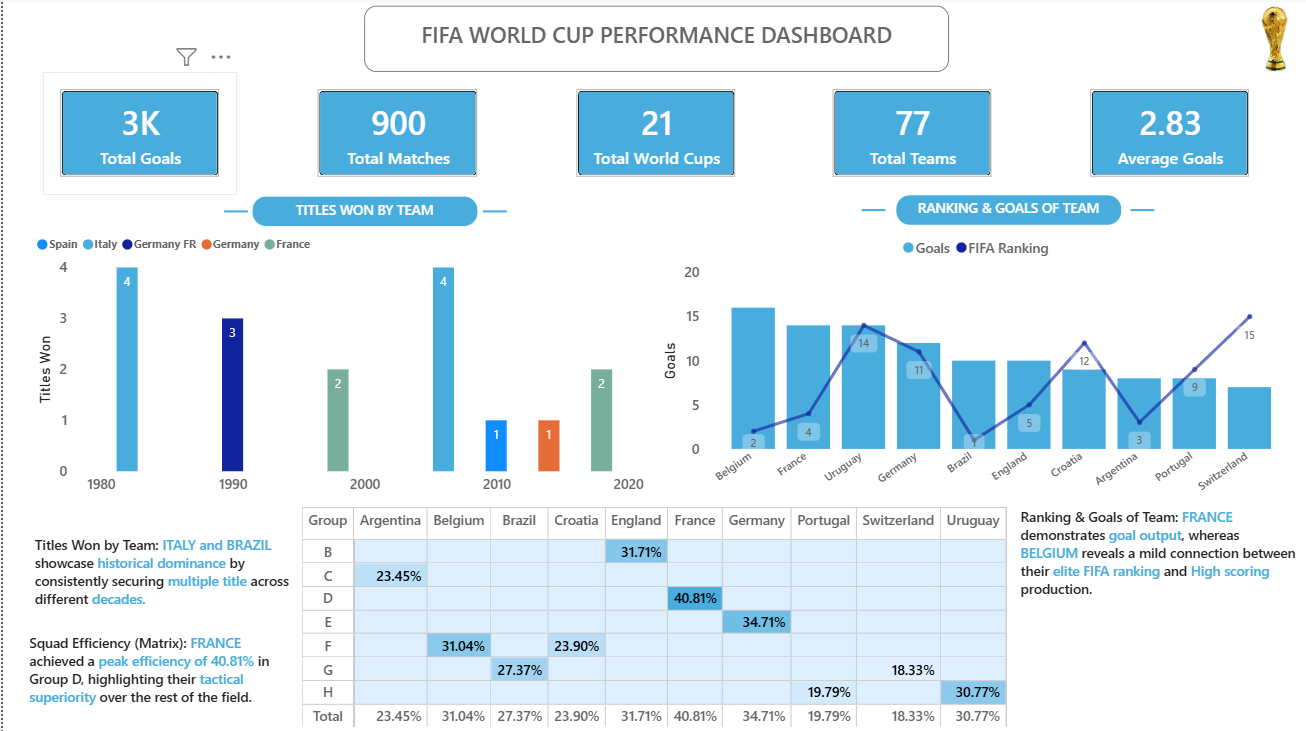

This screenshot's page, from the dashboard's own definition file:
{"tool":"powerbi","page":{"name":"OVERVIEW","canvas":[1280,720],"ordinal":0},"visuals":[{"type":"textbox","box":[353.9,8.6,572.3,64.8],"z":0},{"type":"cardVisual","fields":{"Data":["2022_world_cup_groups.tOTAL WORLD CUPS"]},"box":[543.5,73.4,189.5,119.8],"z":1000},{"type":"cardVisual","fields":{"Data":["2022_world_cup_groups.total matches"]},"box":[290.7,73.4,190.8,119.8],"z":2000},{"type":"cardVisual","fields":{"Data":["2022_world_cup_groups.total goals"]},"box":[39.1,73.4,189.5,119.8],"z":3000},{"type":"cardVisual","fields":{"Data":["2022_world_cup_groups.average goals"]},"box":[1046.7,73.4,189.5,119.8],"z":4000},{"type":"cardVisual","fields":{"Data":["2022_world_cup_groups.total teams"]},"box":[795.1,73.4,189.5,119.8],"z":5000},{"type":"image","box":[1220.4,8.6,47.7,64.8],"z":6000},{"type":"ribbonChart","fields":{"Y":["2022_world_cup_groups.titles won"],"Series":["world_cups.Winner"],"Category":["world_cups.Year"]},"box":[28.1,225,611.4,269],"z":7000},{"type":"lineClusteredColumnComboChart","fields":{"Category":["2022_world_cup_groups.Team"],"Y2":["2022_world_cup_groups.h fifa ranking"],"Y":["2022_world_cup_groups.h goals"]},"box":[639.5,225,628.5,269],"z":8000},{"type":"pivotTable","fields":{"Rows":["2022_world_cup_groups.Group"],"Columns":["2022_world_cup_groups.Team"],"Values":["2022_world_cup_groups.squad experince"]},"box":[287.4,494,703.1,226.2],"z":9000},{"type":"textbox","box":[243.3,194.4,221.3,30.6],"z":10000},{"type":"shape","box":[216.4,188.3,23.2,42.8],"z":11000},{"type":"shape","box":[469.6,188.3,23.2,42.8],"z":12000},{"type":"textbox","box":[873.1,193.2,221.3,30.6],"z":13000},{"type":"shape","box":[1103,187.1,23.2,42.8],"z":14000},{"type":"shape","box":[840.1,187.1,23.2,42.8],"z":15000},{"type":"textbox","box":[28.1,523.4,259.2,94.2],"z":16000},{"type":"textbox","box":[20.8,617.5,266.6,86.8],"z":17000},{"type":"textbox","box":[990,494,279,226],"z":18000}]}

Visuals, with their boxes in screenshot pixels (x1, y1, x2, y2), scaled from the page's 1280x720 canvas onto the 1306x731 screenshot:
textbox: [361,9,945,75]
cardVisual - 2022_world_cup_groups.tOTAL WORLD CUPS: [555,75,748,196]
cardVisual - 2022_world_cup_groups.total matches: [297,75,491,196]
cardVisual - 2022_world_cup_groups.total goals: [40,75,233,196]
cardVisual - 2022_world_cup_groups.average goals: [1068,75,1261,196]
cardVisual - 2022_world_cup_groups.total teams: [811,75,1005,196]
image: [1245,9,1294,75]
ribbonChart - 2022_world_cup_groups.titles won x world_cups.Winner: [29,228,652,502]
lineClusteredColumnComboChart - 2022_world_cup_groups.Team x 2022_world_cup_groups.h fifa ranking: [652,228,1294,502]
pivotTable - 2022_world_cup_groups.Group x 2022_world_cup_groups.Team: [293,502,1011,730]
textbox: [248,197,474,228]
shape: [221,191,244,235]
shape: [479,191,503,235]
textbox: [891,196,1117,227]
shape: [1125,190,1149,233]
shape: [857,190,881,233]
textbox: [29,531,293,627]
textbox: [21,627,293,715]
textbox: [1010,502,1295,730]
